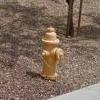Hydrant: (32, 16, 70, 82)
